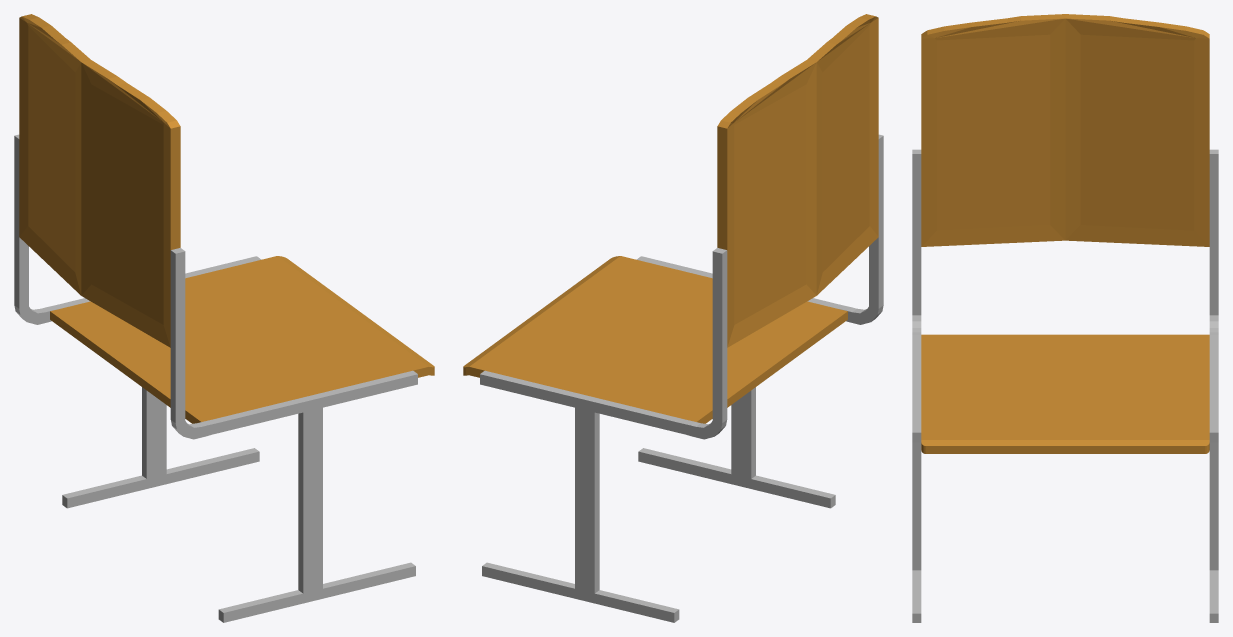
The model's file is chair.fbx.
3 views of the same model, side by side, from view 1: azimuth 30°, elevation 25°; view 2: azimuth 150°, elevation 25°; view 3: azimuth 270°, elevation 25° (orthographic). The views are drawn at different scales.
Parts seen in each view (by area): view 1: Cube.005; view 2: Cube.005; view 3: Cube.005.
Boxes of the visible parts, box(x1,y1,x2,y2) form: Cube.005: box(14, 14, 434, 622); Cube.005: box(463, 14, 883, 622); Cube.005: box(912, 14, 1218, 622).
Bounding box in the file's own units: 52.98 × 93.62 × 52.97.
